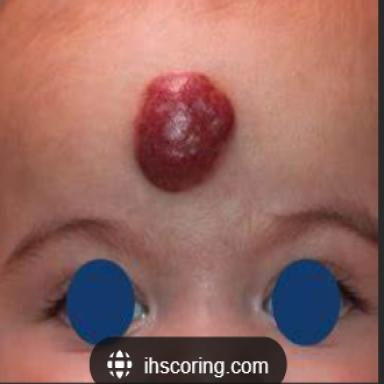Hemangiome: (134, 71, 234, 190)
